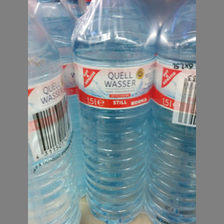water: (69, 1, 158, 224), (29, 2, 81, 224), (149, 1, 195, 224)
